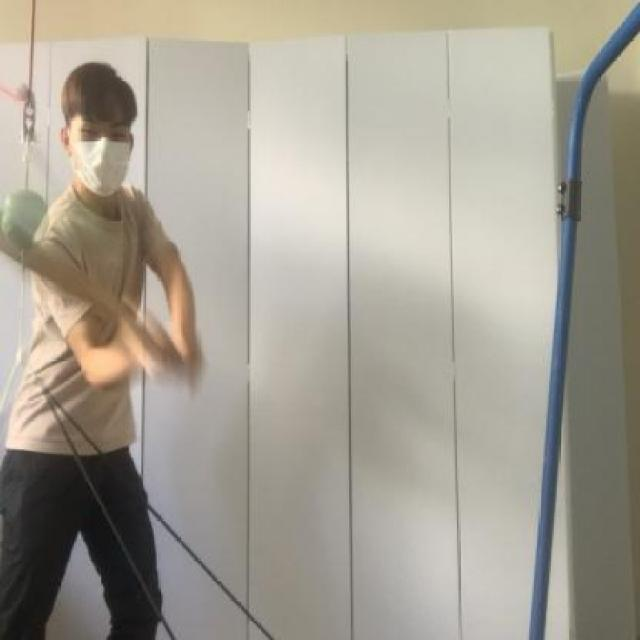baseball: (3, 175, 59, 256)
